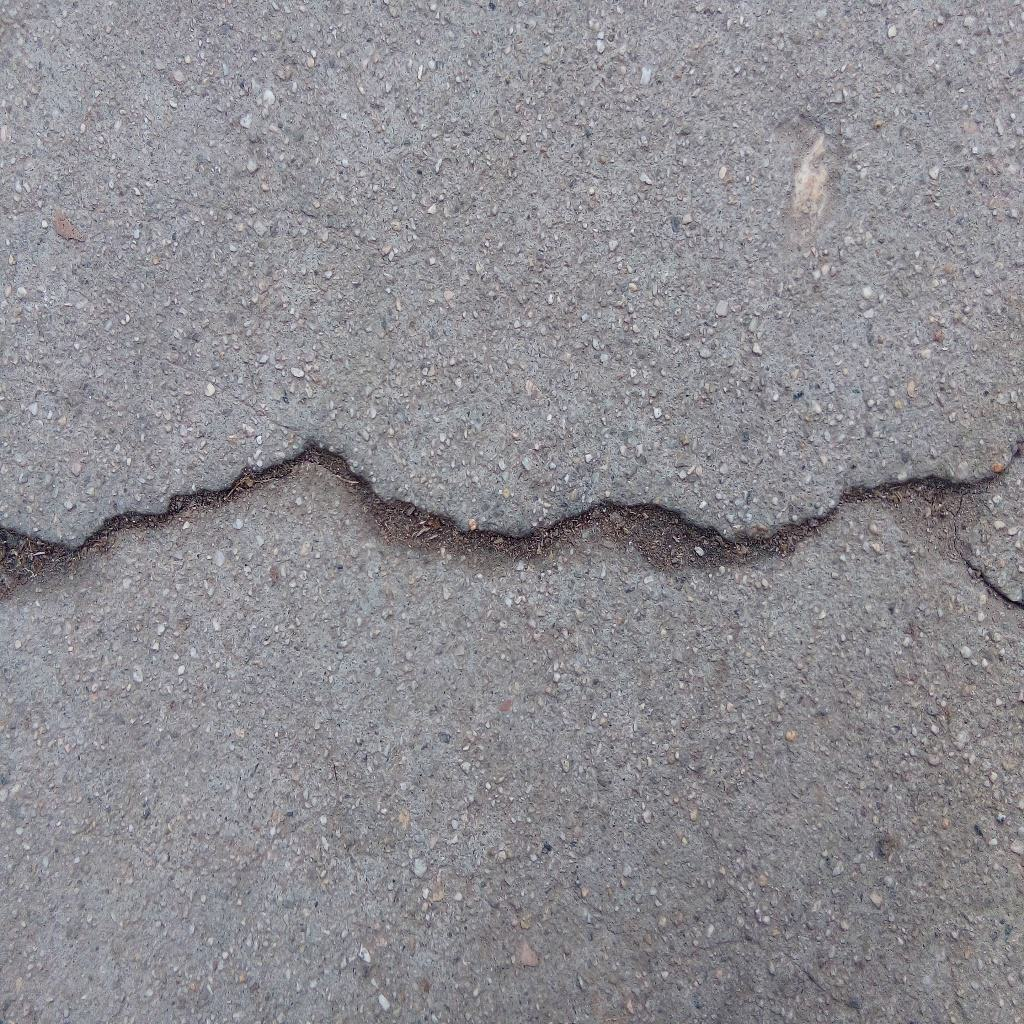Crack: (1, 435, 1024, 602)
